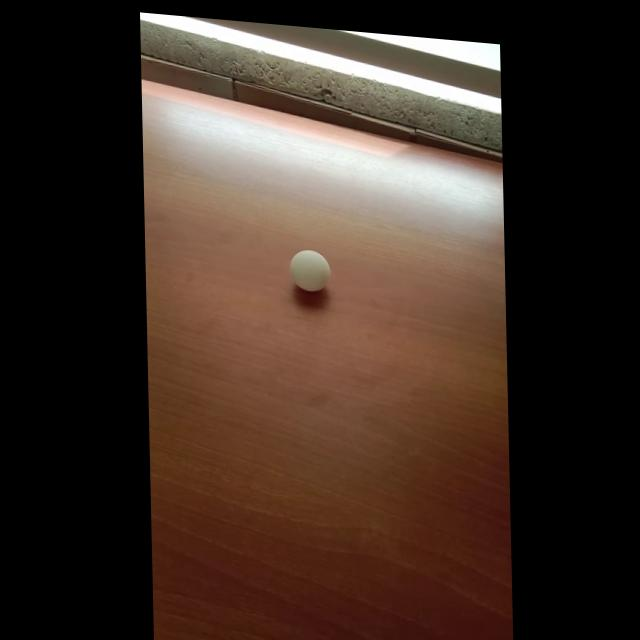white ball: (288, 247, 331, 293)
